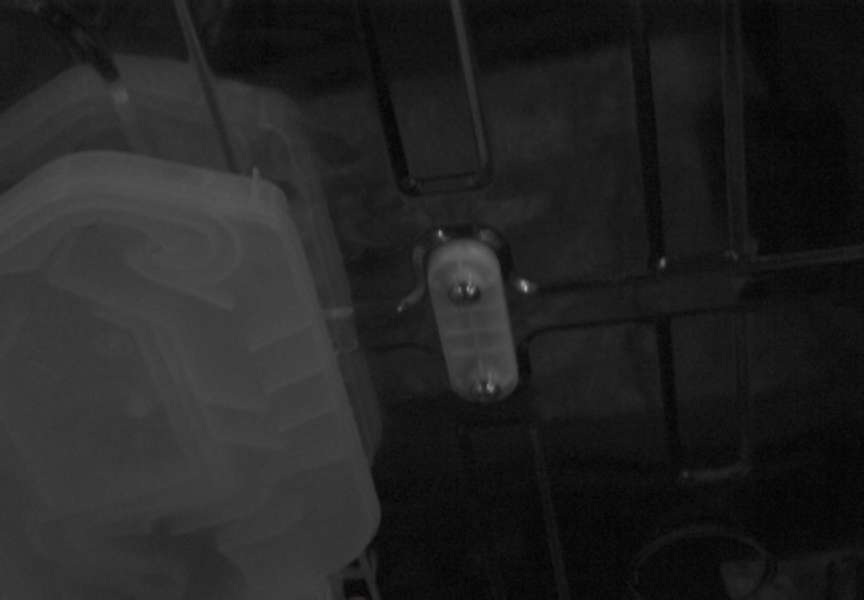screw: (448, 280, 482, 305), (471, 377, 501, 403)
